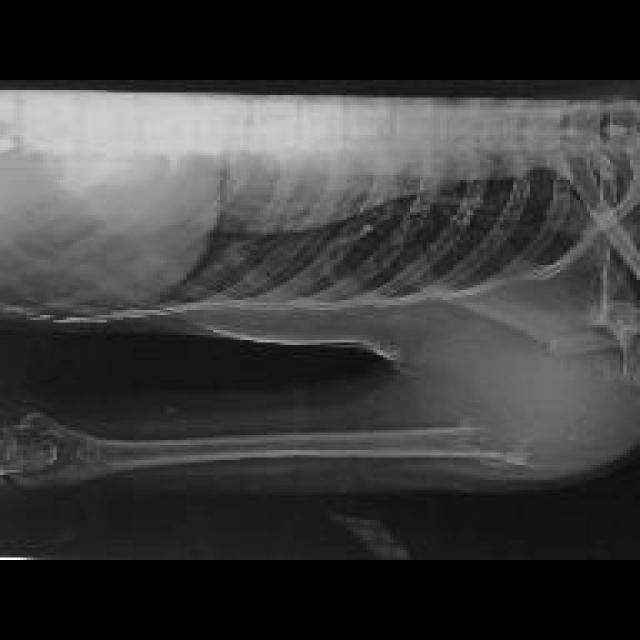bone-cancer: (402, 298, 638, 491)
